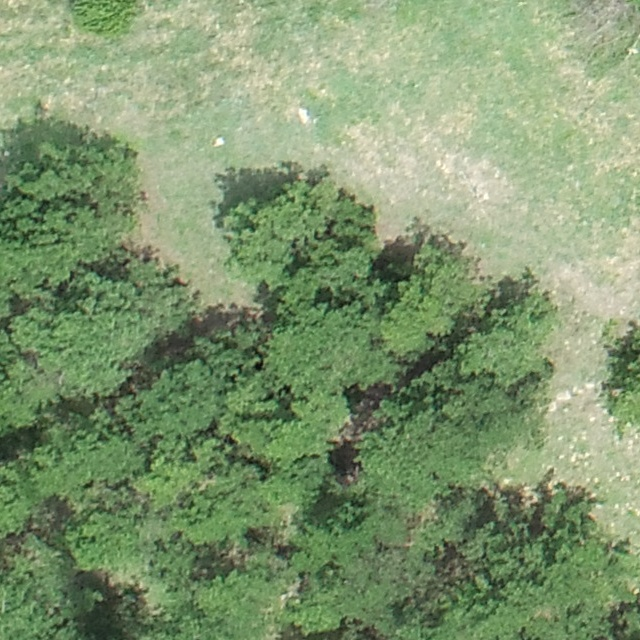unhealthy: (574, 0, 629, 36)
